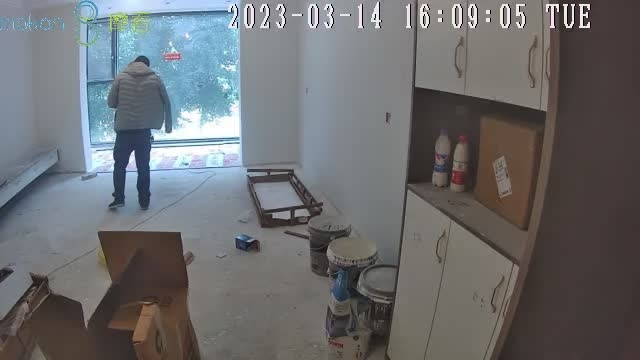people: (108, 56, 171, 209)
window: (85, 14, 241, 143)
